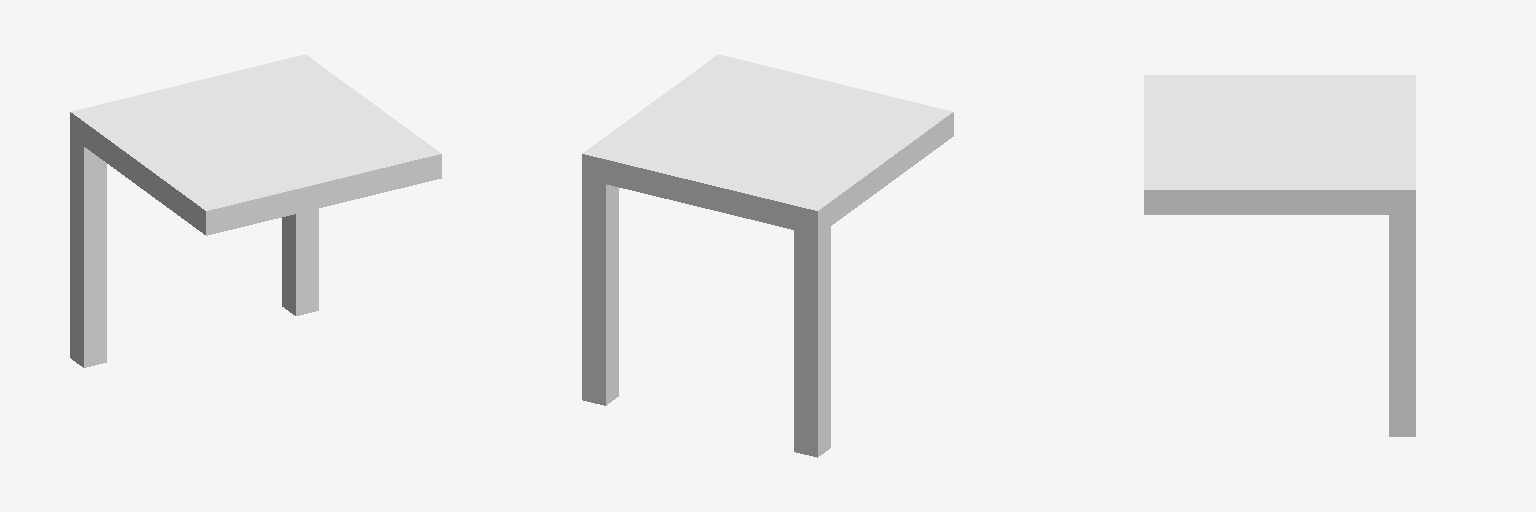
Rendered from mesap1.obj.
The picture shows the model from 3 angles: view 1: azimuth 30°, elevation 25°; view 2: azimuth 150°, elevation 25°; view 3: azimuth 270°, elevation 25°; orthographic projection.
Visible parts, largest first — view 1: object 1; view 2: object 1; view 3: object 1.
Boxes of the visible parts, box(x1,y1,x2,y2) form: object 1: box(70, 54, 441, 367); object 1: box(582, 54, 953, 457); object 1: box(1144, 75, 1415, 436).
Size of the model in its own units: 2 by 2 by 2.